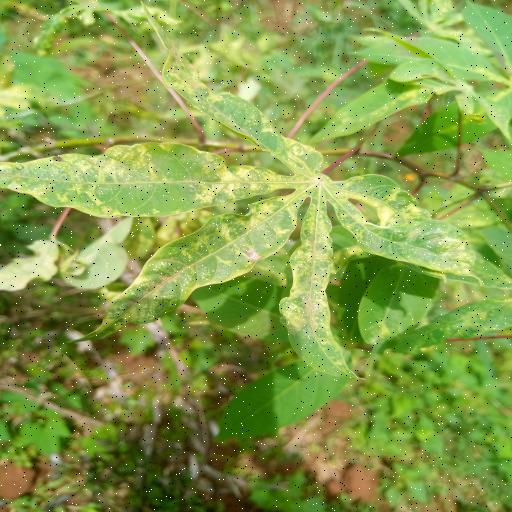Cassava_Mosaic: (0, 45, 484, 387)
